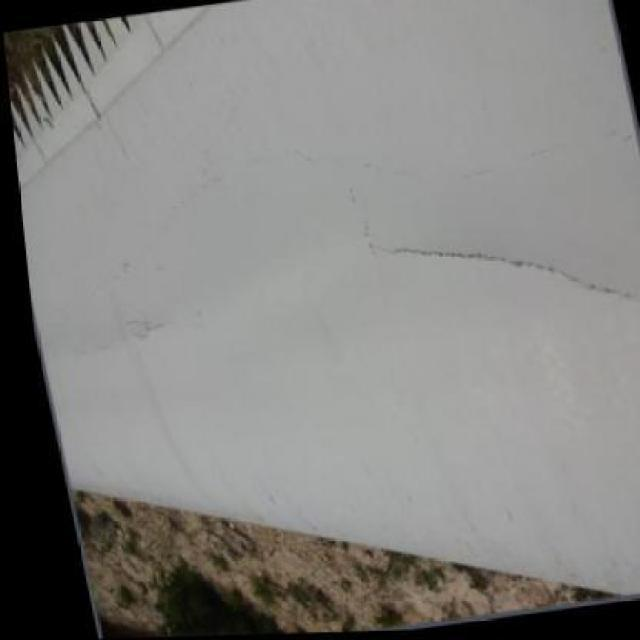Crack: (352, 210, 638, 358)
